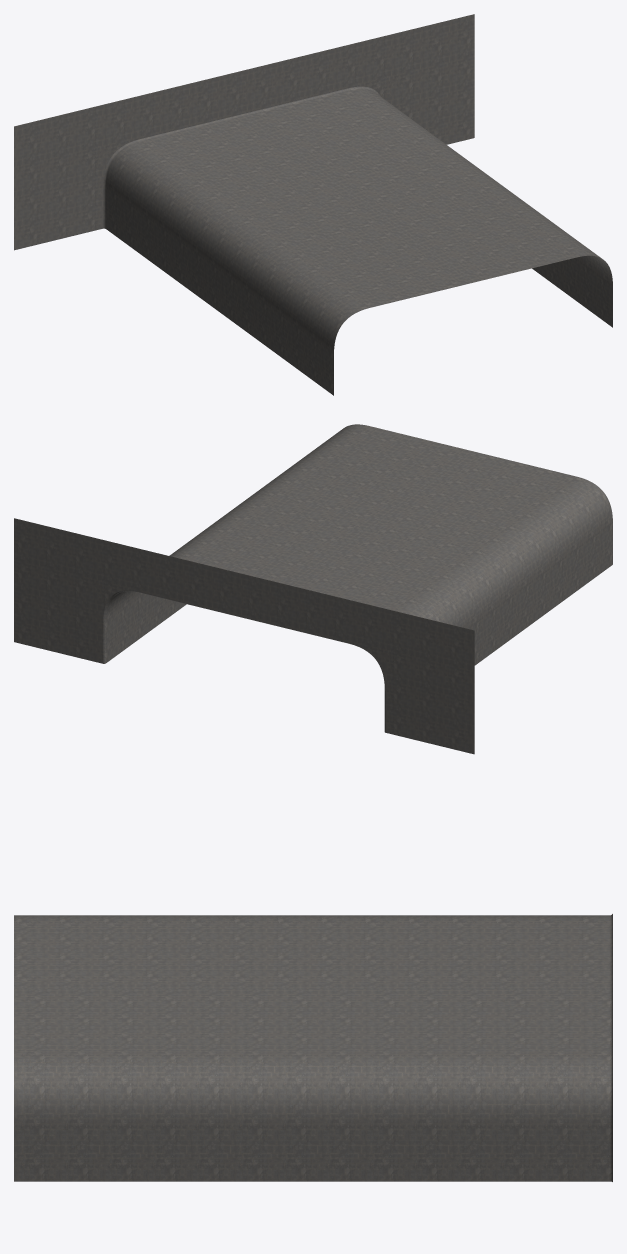
Rendered from SM_BackWall.FBX.
The picture shows the model from 3 angles, top to bottom: view 1: azimuth 30°, elevation 25°; view 2: azimuth 150°, elevation 25°; view 3: azimuth 270°, elevation 25°; orthographic projection. The views are drawn at different scales.
Visible parts, largest first — view 1: SM_BackWall; view 2: SM_BackWall; view 3: SM_BackWall.
Part boxes in pixels (x1,y1,x2,y2): SM_BackWall: [14, 14, 612, 395]; SM_BackWall: [14, 424, 612, 754]; SM_BackWall: [14, 914, 612, 1181].
Size of the model in its own units: 3980 by 3427 by 1023.
